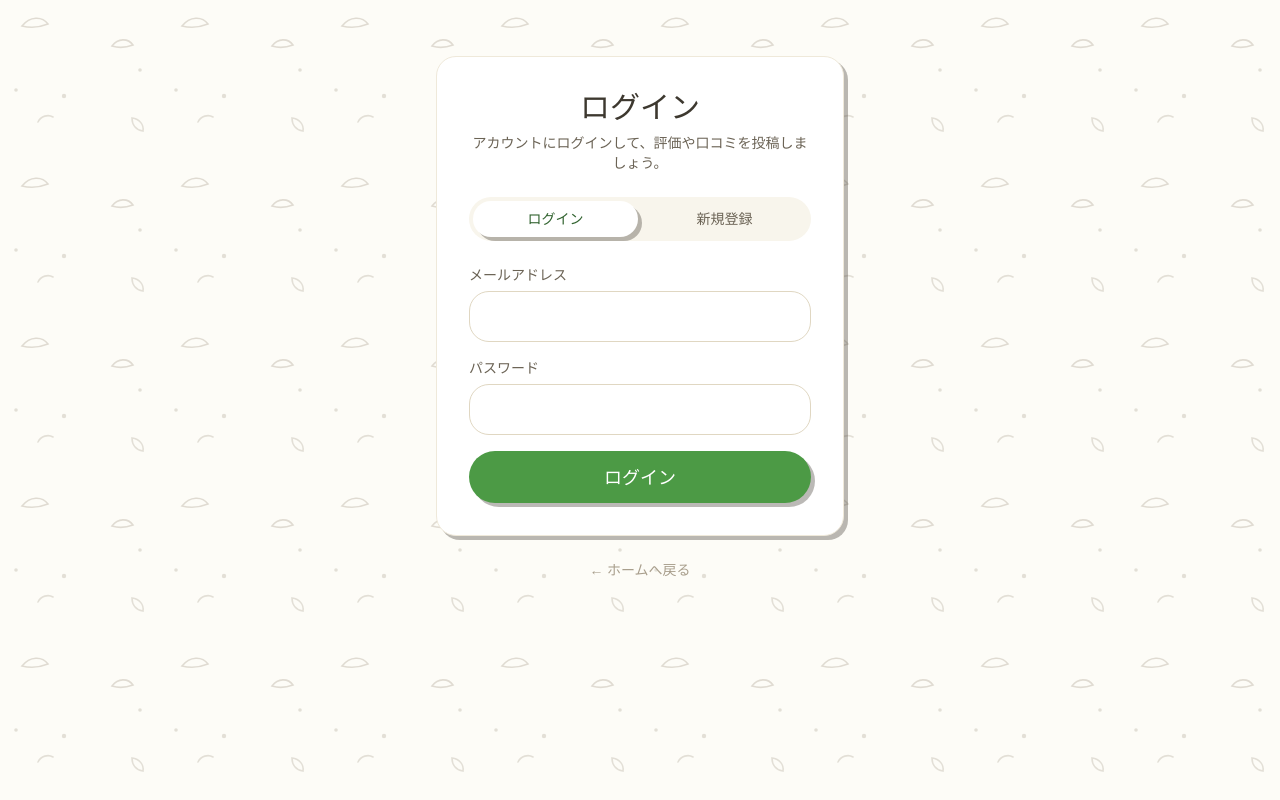
LoginPage › clears a previous error when switching mode
Step 1. Type "a@example.com" into the field labelled "メールアドレス" → point(640, 316), box [469,291,811,342]
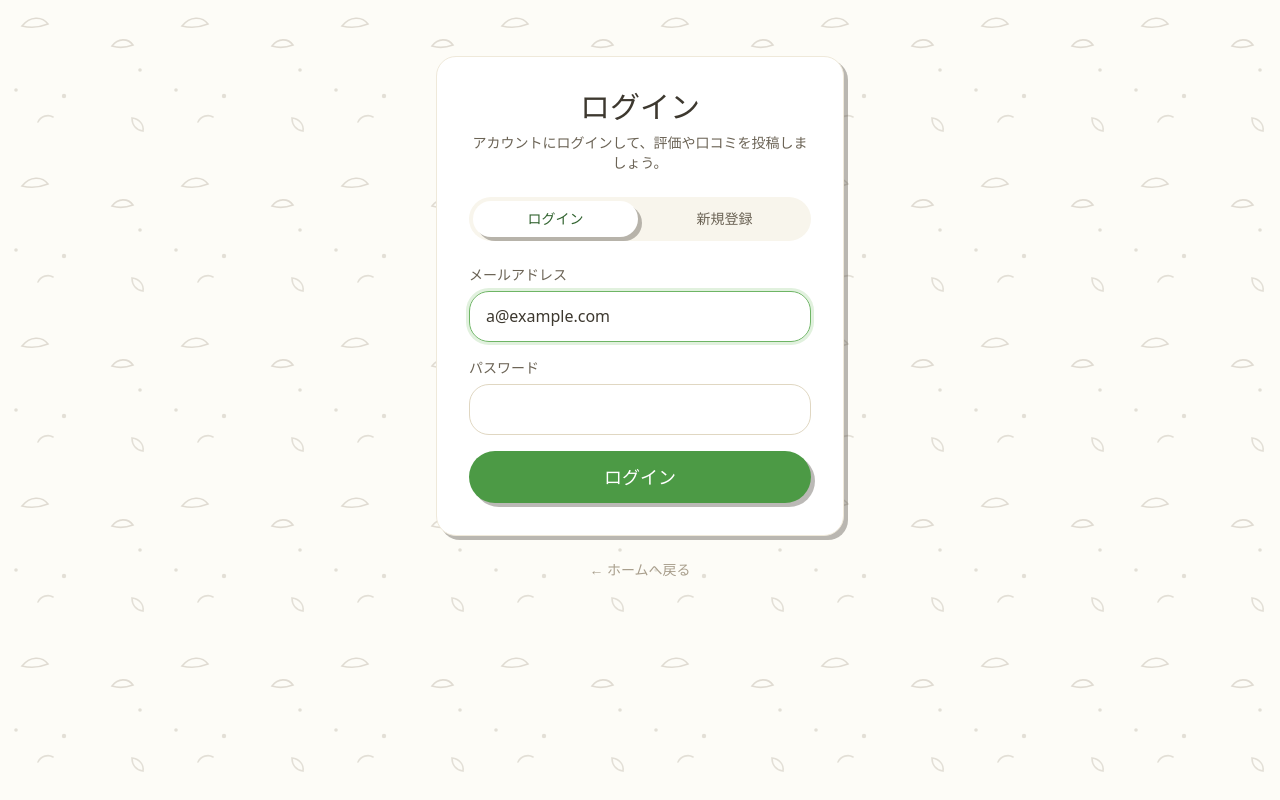
Step 2. Type "x" into the password field labelled "パスワード" → point(640, 409), box [469,384,811,435]
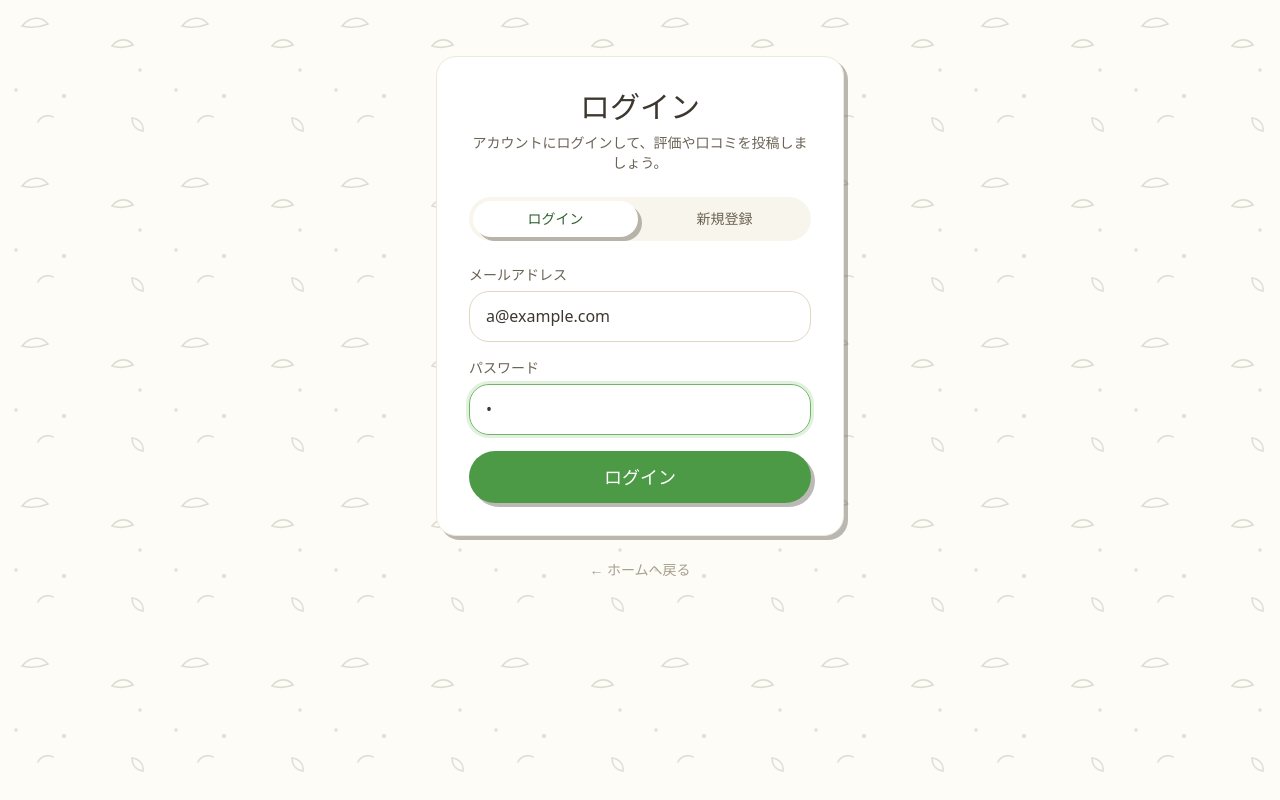
Step 3. Click the button "ログイン" → point(640, 477), box [469,451,811,503]
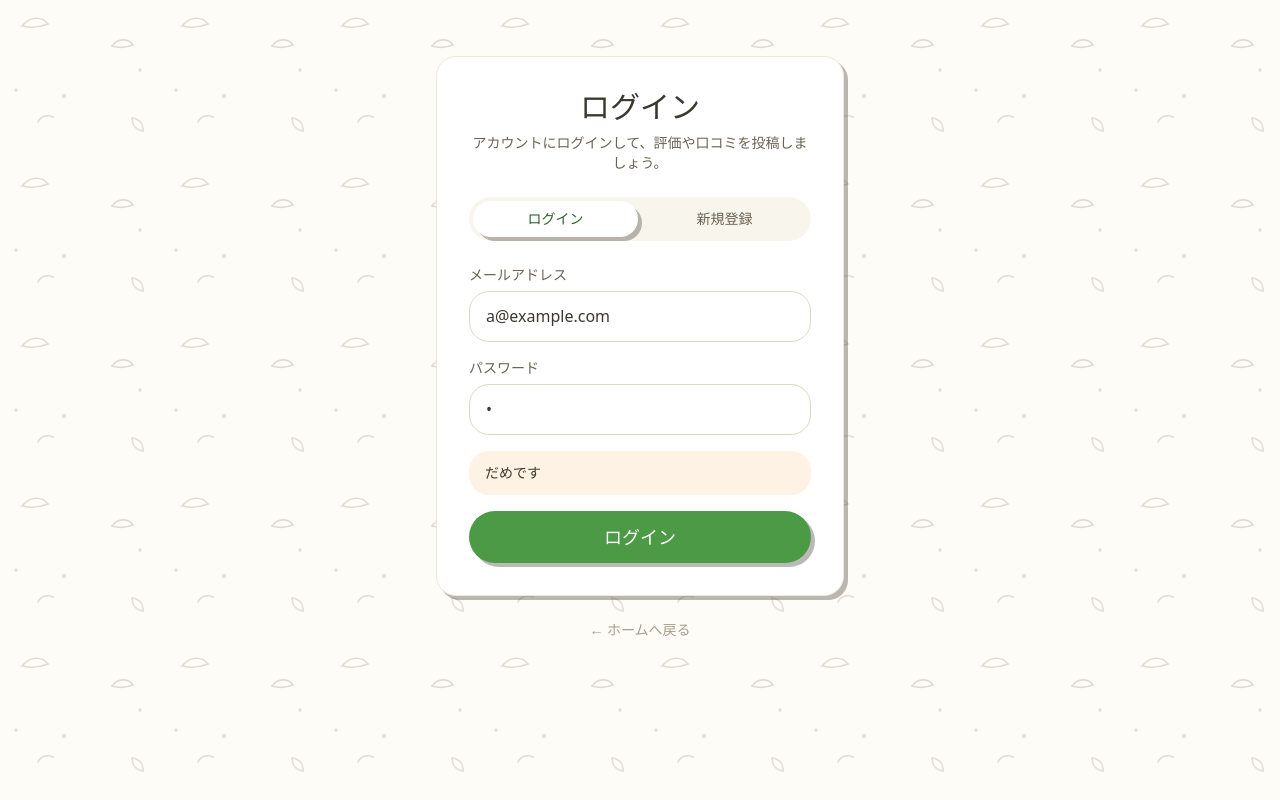
expect the message "だめです" is shown: met, box [469,451,811,495]
Step 4. Click the tab "新規登録" → point(724, 219), box [642,201,807,237]
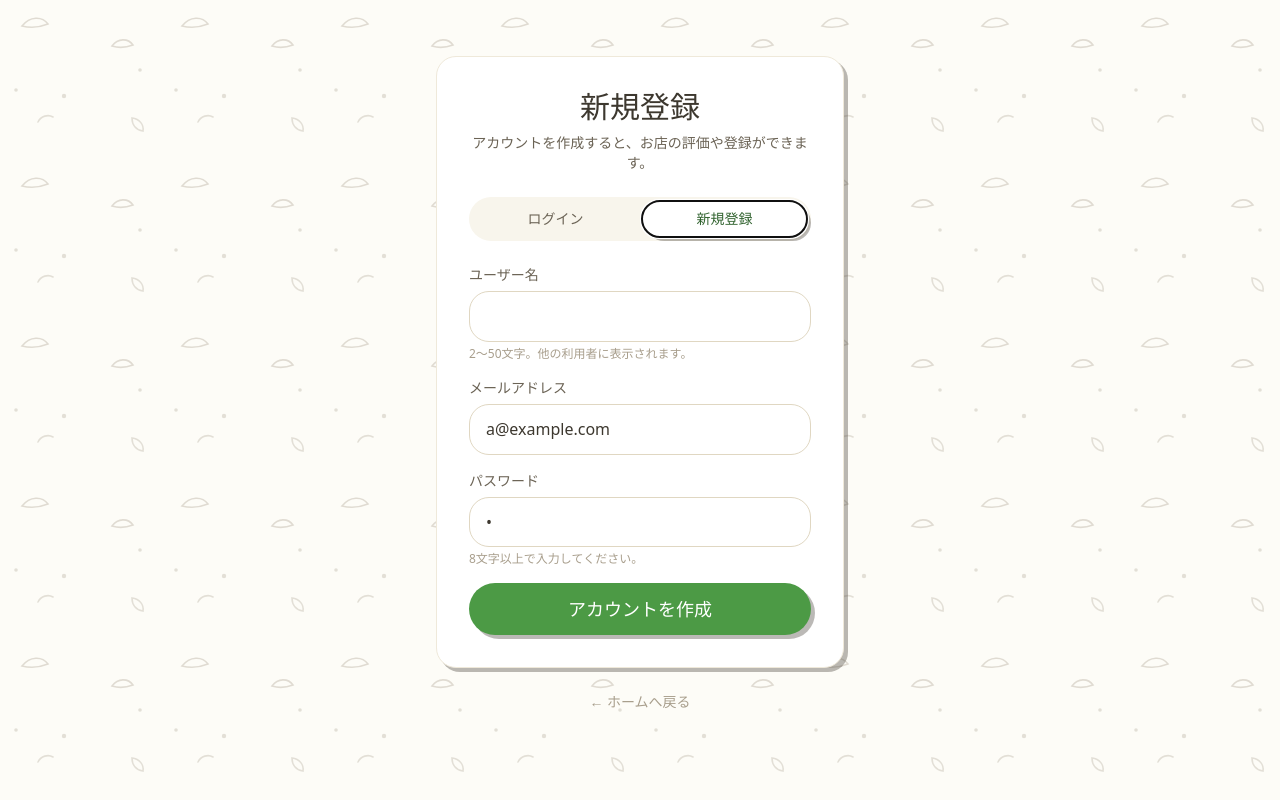
expect the message "だめです" is gone: met
